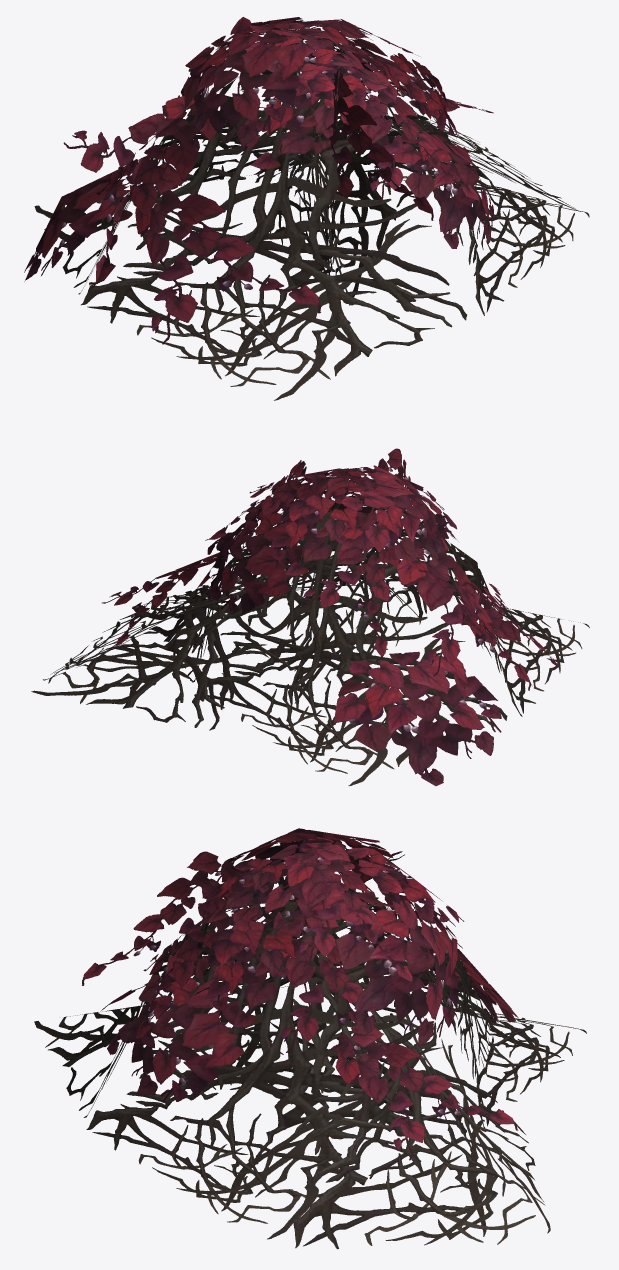
3 renders of one model, top to bottom at view 1: azimuth 30°, elevation 25°; view 2: azimuth 150°, elevation 25°; view 3: azimuth 270°, elevation 25°, orthographic. The views are drawn at different scales.
Size of the model in its own units: 5.66 by 2.69 by 5.31.
Materials: 1 (1 with a texture image).
